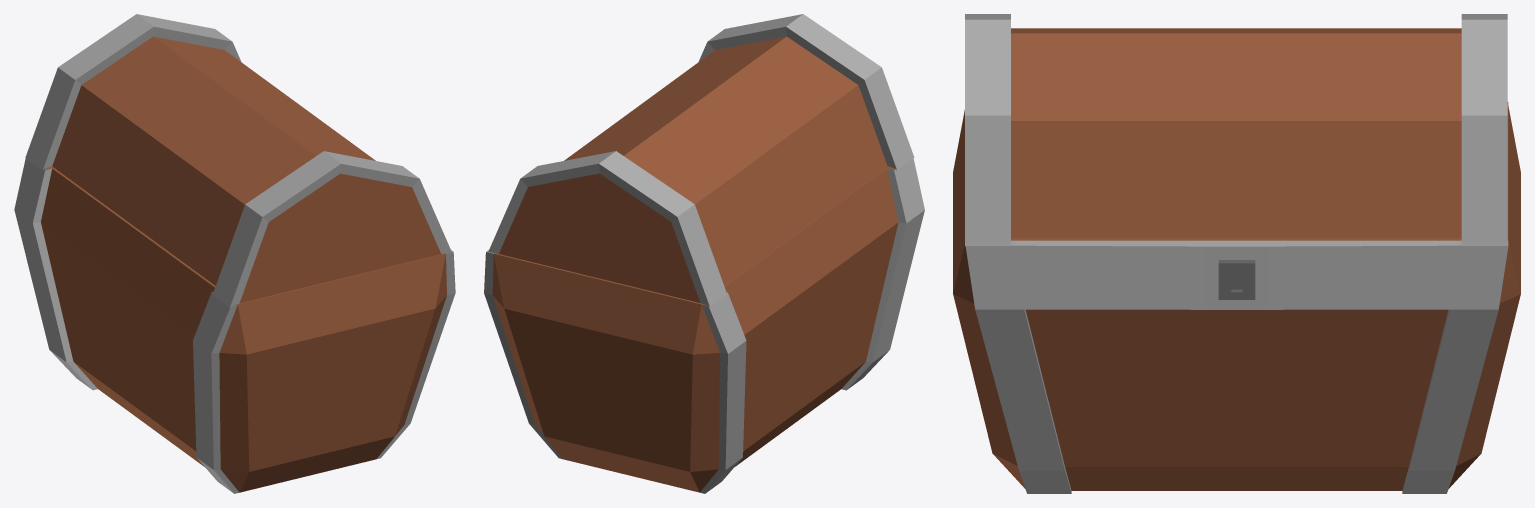
Rendered from Crypt_Chest.glb.
The picture shows the model from 3 angles, left to right: view 1: azimuth 30°, elevation 25°; view 2: azimuth 150°, elevation 25°; view 3: azimuth 270°, elevation 25°; orthographic projection. The views are drawn at different scales.
Visible parts, largest first — view 1: ChestBottom; view 2: ChestBottom; view 3: ChestBottom.
Boxes of the visible parts, <box> form: ChestBottom: <box>14,14,455,493</box>; ChestBottom: <box>484,14,924,493</box>; ChestBottom: <box>953,14,1520,493</box>.
Size of the model in its own units: 0.7474 by 0.9443 by 1.12.
